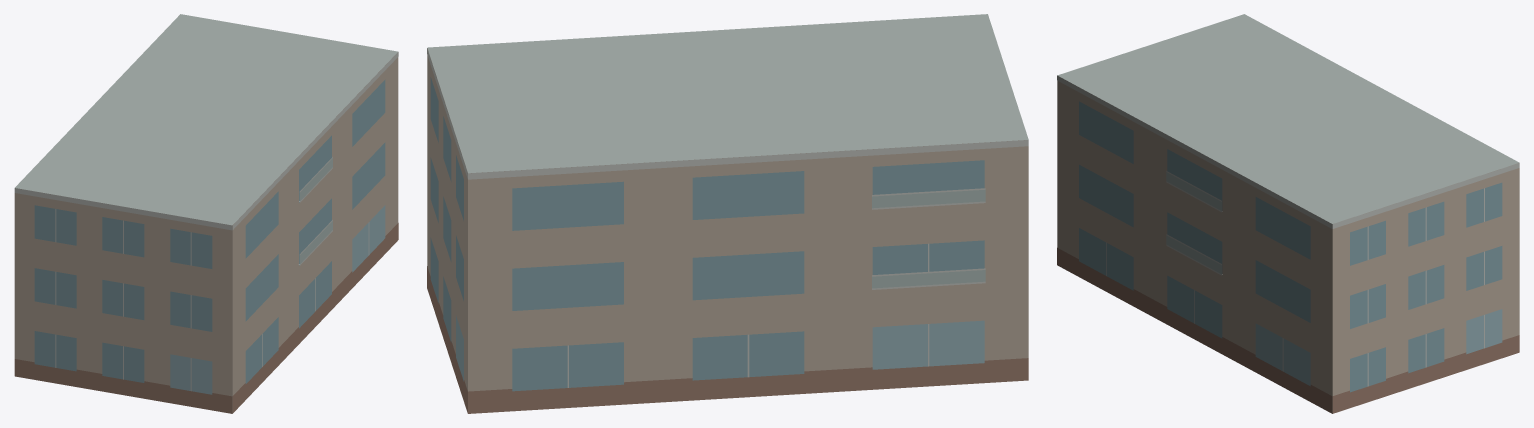
The model's file is survey-upis-32682834.glb.
3 views of the same model, side by side, from view 1: azimuth 30°, elevation 25°; view 2: azimuth 150°, elevation 25°; view 3: azimuth 270°, elevation 25° (orthographic). The views are drawn at different scales.
Parts seen in each view (by area): view 1: survey-upis-32682834.tmp; view 2: survey-upis-32682834.tmp; view 3: survey-upis-32682834.tmp.
Boxes of the visible parts, bbox=[...] form: survey-upis-32682834.tmp: bbox=[14, 14, 398, 413]; survey-upis-32682834.tmp: bbox=[427, 14, 1028, 413]; survey-upis-32682834.tmp: bbox=[1057, 14, 1519, 413].
Bounding box in the file's own units: 21.73 × 9.15 × 20.22.
